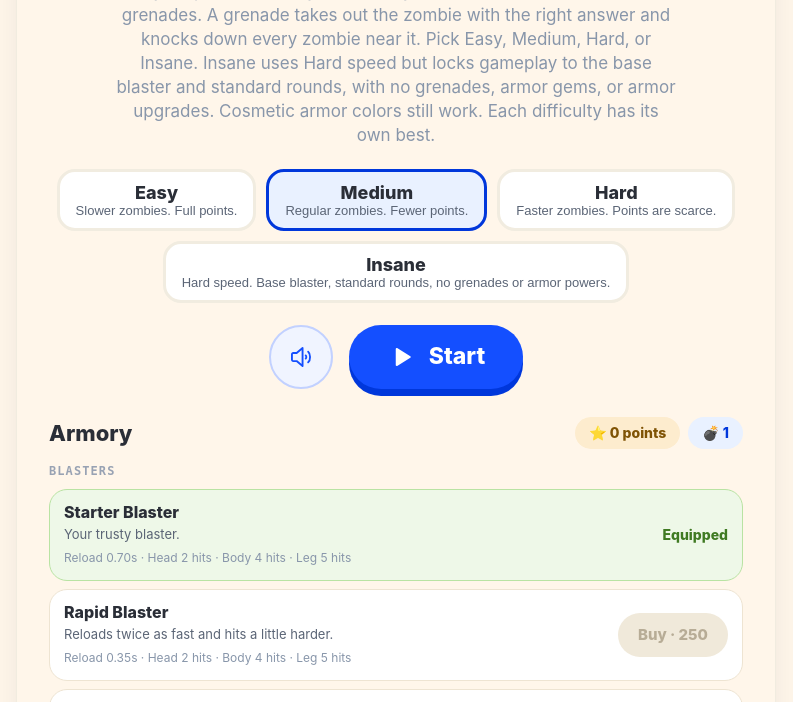
Test case: ZombieHorde: the start screen › reads how to play aloud, and a second tap stops it
(page scrolled)
Click the button named "Hear how to play" at (301, 357), box [269,325,333,389]
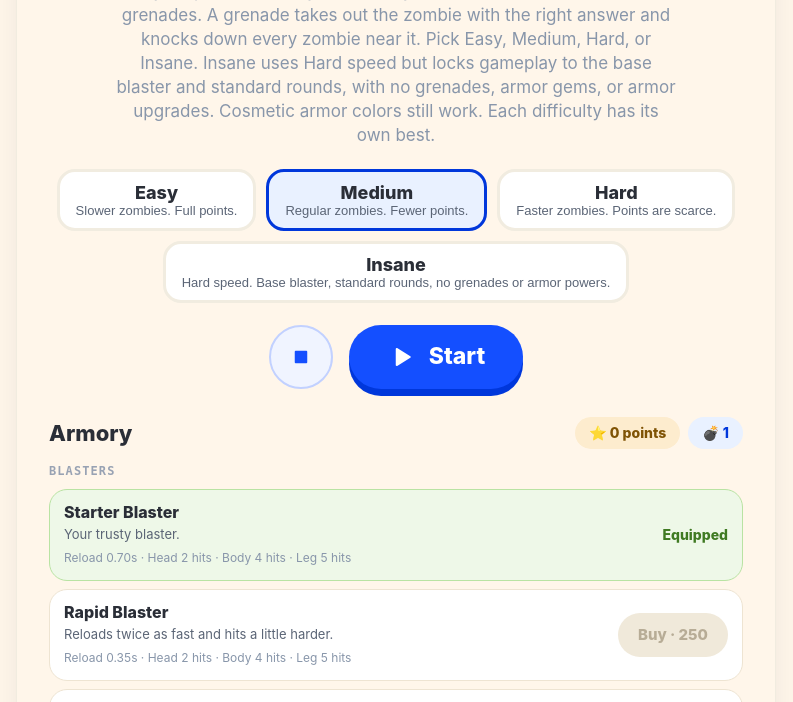
Click the button named "Stop reading" at (301, 357), box [269,325,333,389]
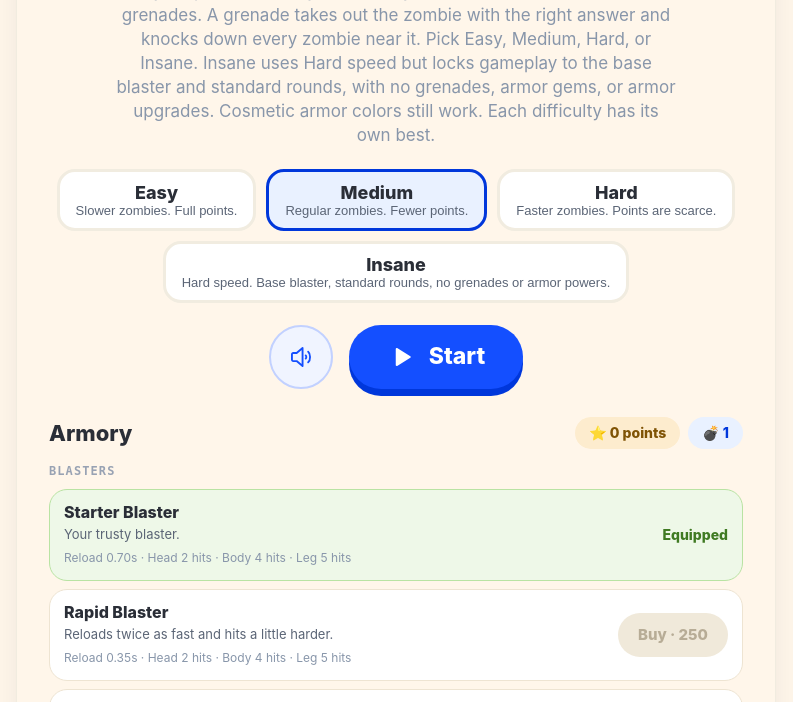
expect the button named "Hear how to play" is shown: met, box [269,325,333,389]
